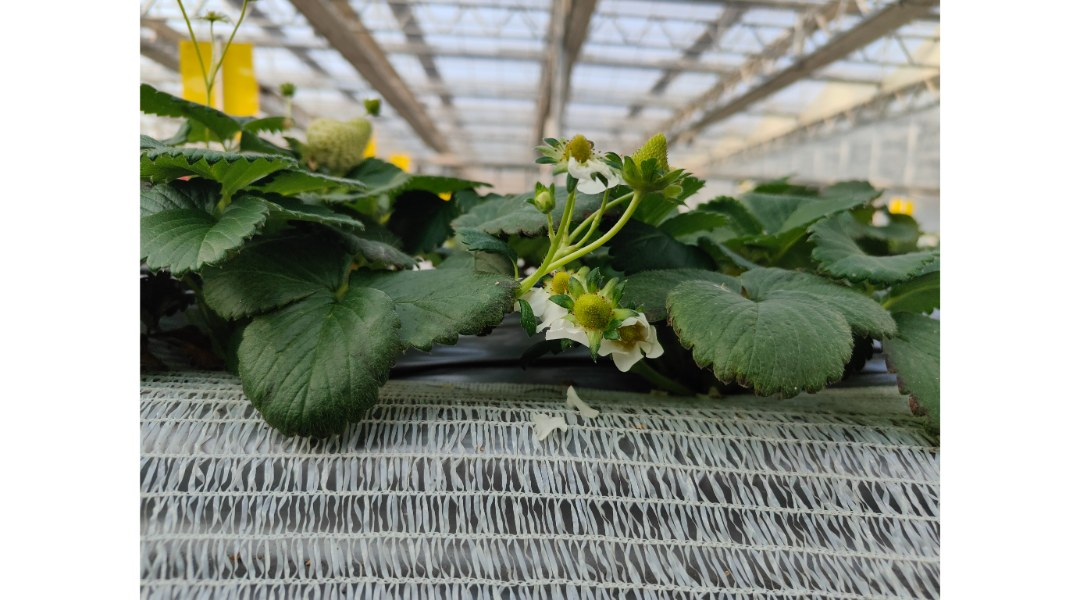berry: (286, 109, 384, 182), (624, 121, 673, 197), (558, 282, 623, 335)
flower: (611, 304, 673, 376), (568, 145, 622, 195)
